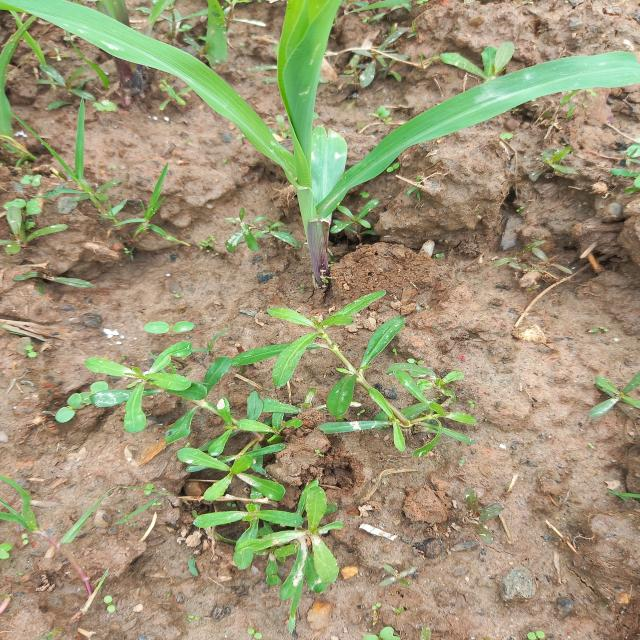maize: (0, 0, 558, 280)
weed: (244, 301, 512, 464), (156, 420, 382, 590), (0, 99, 198, 276), (47, 322, 234, 436), (0, 472, 67, 541), (436, 38, 530, 86), (342, 32, 423, 82), (597, 342, 640, 420), (346, 613, 451, 640), (509, 613, 546, 640)
